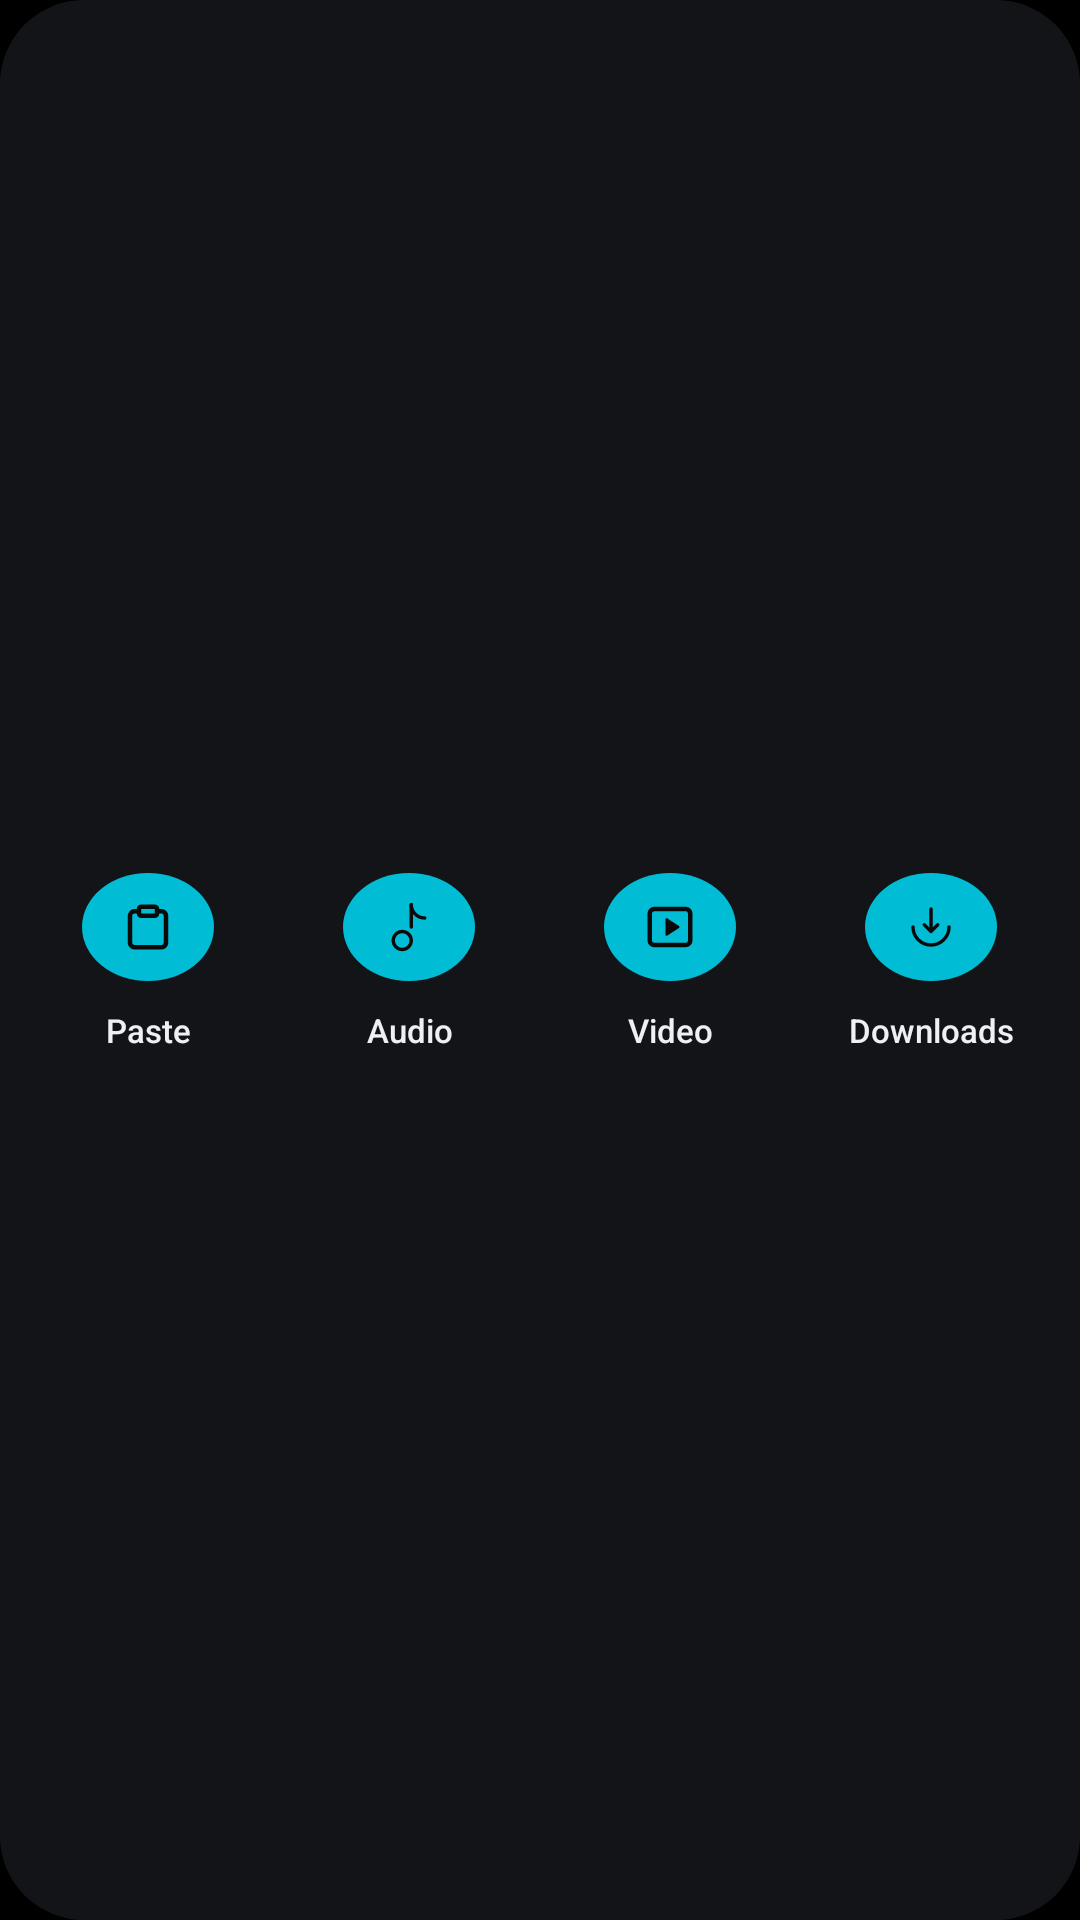

Named icons in this screenshot (1080w x 1920h) and their bounding boxes, (x1, y1, x2, y2):
music: (391, 902, 427, 952)
